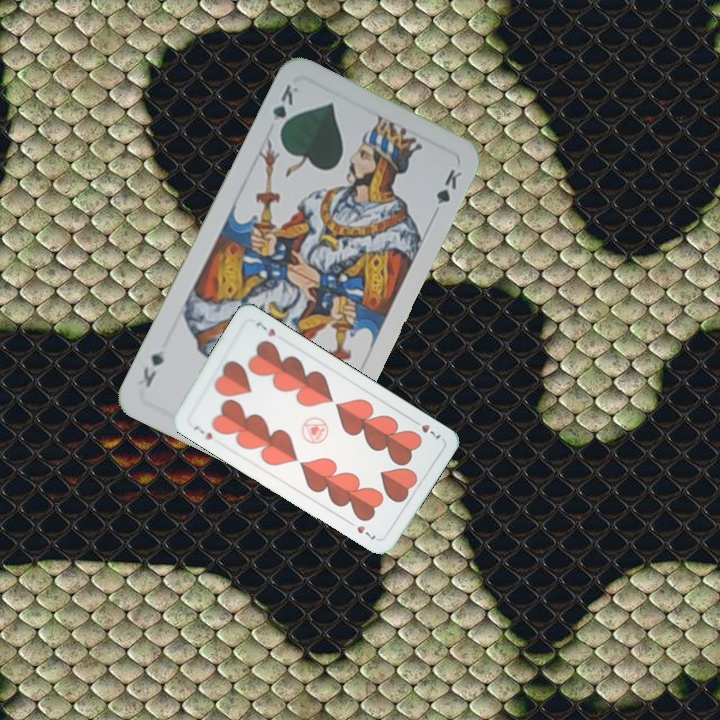GK: (266, 80, 302, 137)
H7: (408, 415, 443, 442), (190, 421, 215, 443)
